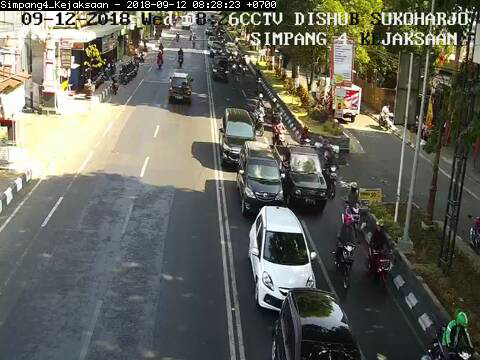motor: (336, 212, 358, 289), (370, 219, 393, 289)
